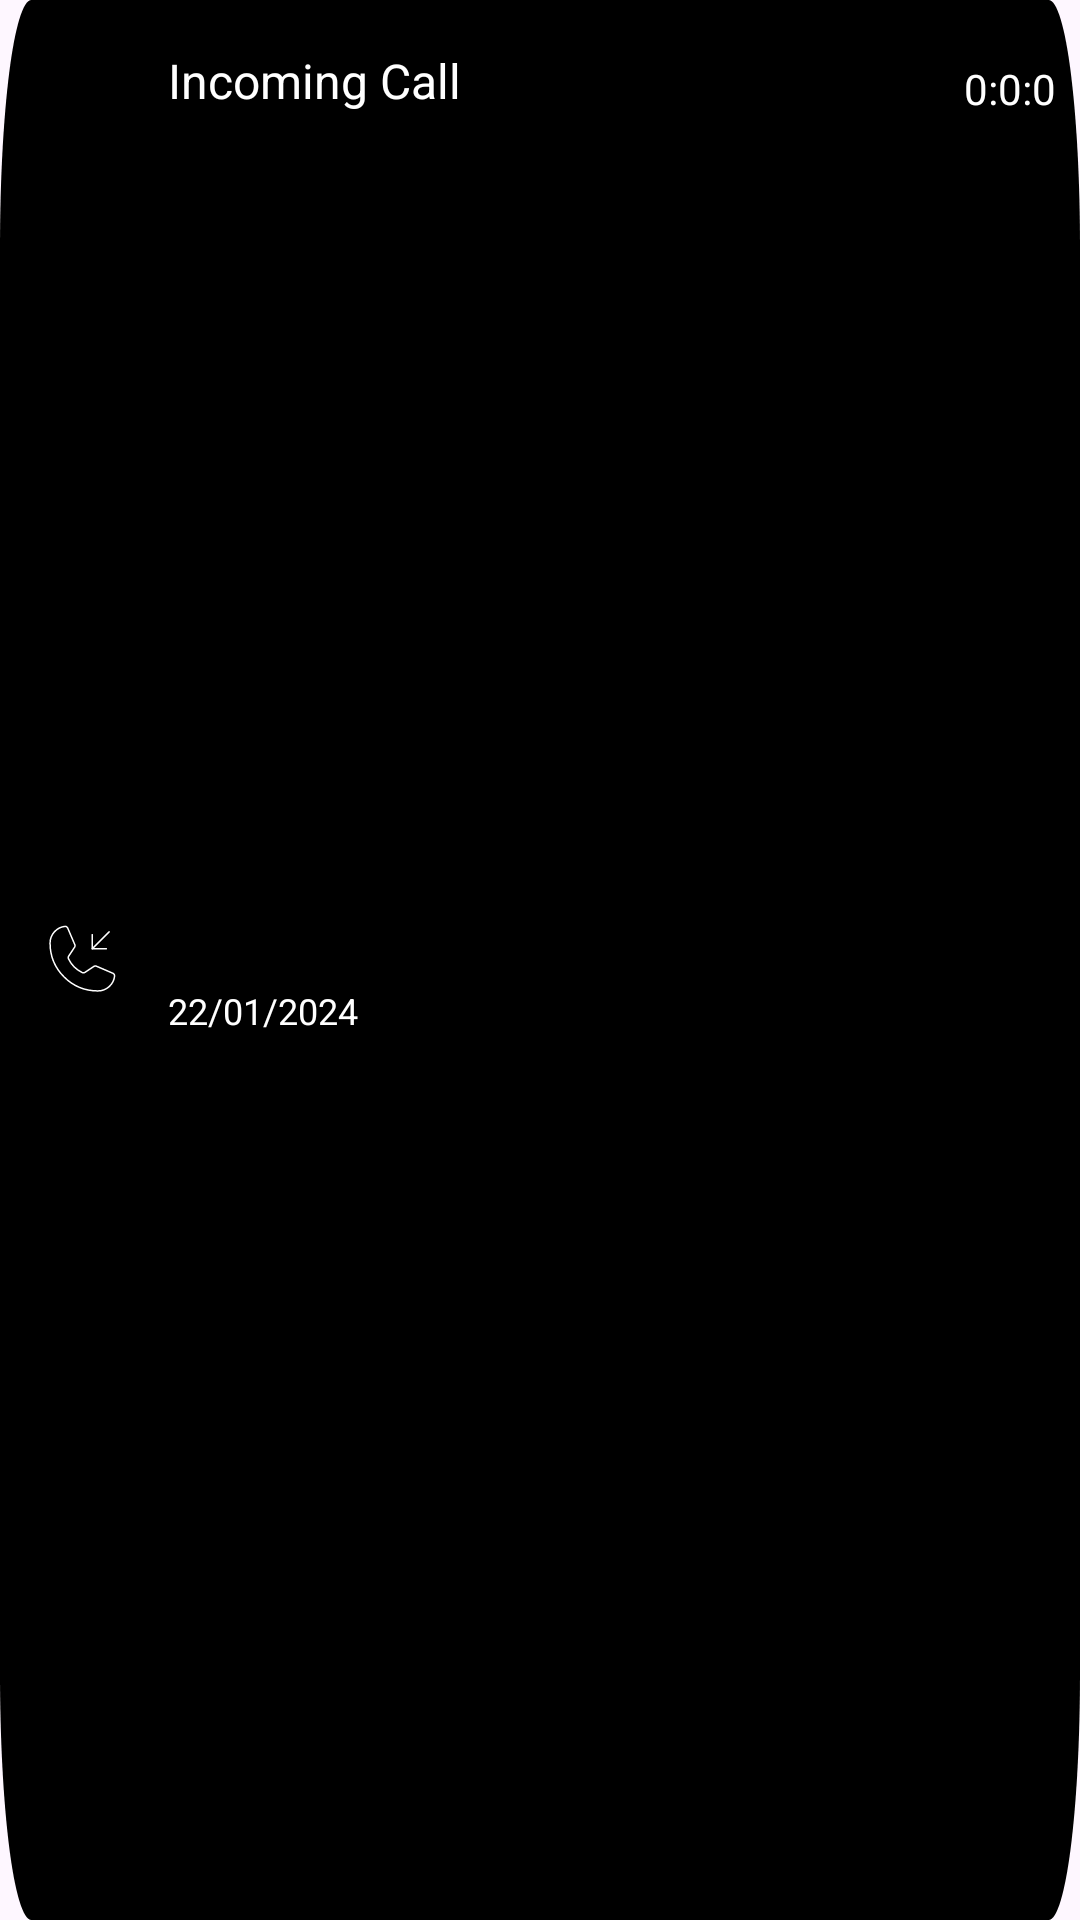

Icons on this 1080px×1920px Android screen, each with the point to tap as (x,y):
incoming call: (82,958)
